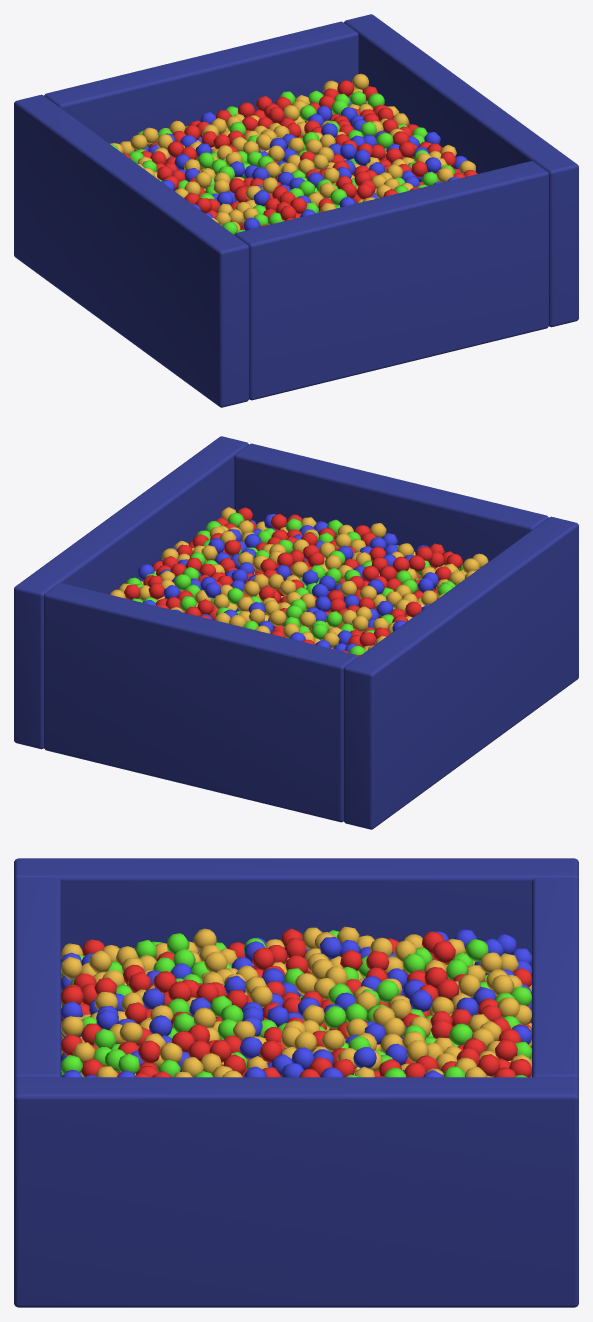
The model's file is ball pool.fbx.
3 views of the same model, one above another, from view 1: azimuth 30°, elevation 25°; view 2: azimuth 150°, elevation 25°; view 3: azimuth 270°, elevation 25° (orthographic). The views are drawn at different scales.
Visible parts, largest first — view 1: Cube.002, Cube.004, Cube.003, Cube.001; view 2: Cube.001, Cube.004, Cube.003, Cube.002; view 3: Cube.003, Cube.004, Cube.001, Cube.002.
Part boxes in pixels (x1,y1,x2,y2): Cube.002: [234, 161, 548, 400]; Cube.004: [14, 94, 249, 407]; Cube.003: [344, 14, 578, 327]; Cube.001: [44, 21, 358, 143]; Cube.001: [44, 583, 358, 822]; Cube.004: [343, 516, 578, 829]; Cube.003: [14, 436, 248, 749]; Cube.002: [234, 443, 548, 564]; Cube.003: [14, 1077, 578, 1307]; Cube.004: [14, 858, 578, 1047]; Cube.001: [532, 878, 578, 1080]; Cube.002: [14, 878, 60, 1080].
Size of the model in its own units: 240 by 100 by 240.
